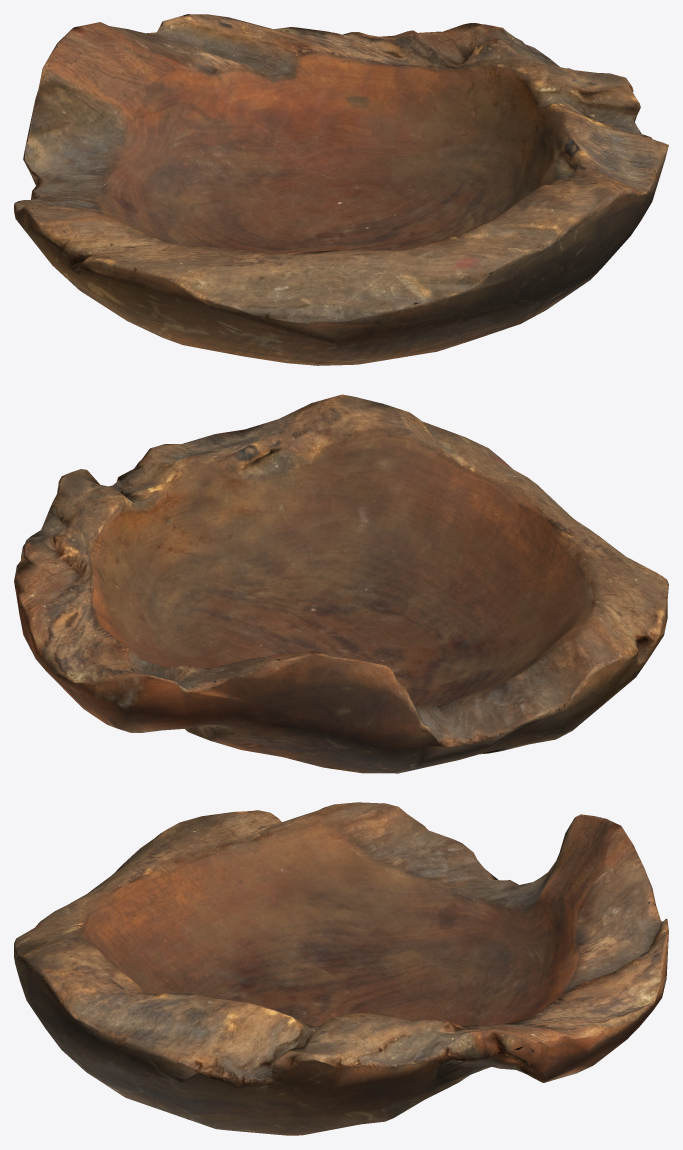
File: wooden_bowl_01.glb
3 views of the same model, one above another, from view 1: azimuth 30°, elevation 25°; view 2: azimuth 150°, elevation 25°; view 3: azimuth 270°, elevation 25° (orthographic). The views are drawn at different scales.
Visible parts, largest first — view 1: wooden_bowl_01; view 2: wooden_bowl_01; view 3: wooden_bowl_01.
Part boxes in pixels (x1,y1,x2,y2): wooden_bowl_01: (14, 14, 668, 365); wooden_bowl_01: (14, 394, 668, 773); wooden_bowl_01: (14, 802, 668, 1135).
Size of the model in its own units: 0.3127 by 0.0929 by 0.3088.
1 material, 1 textured.
